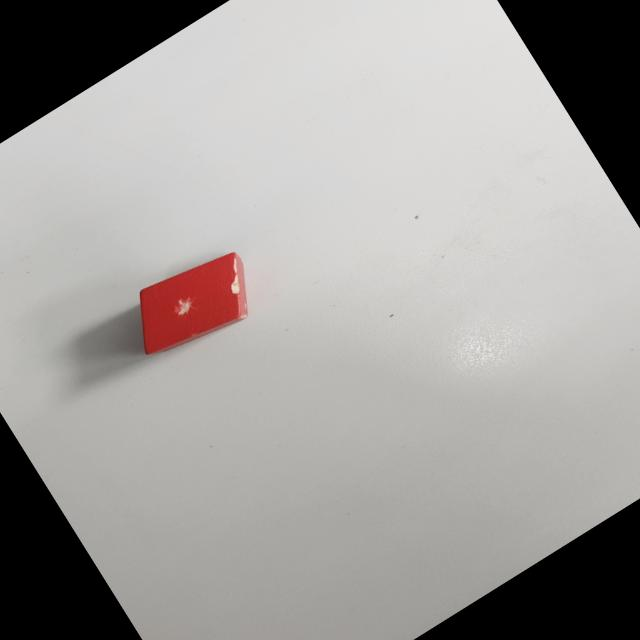broken: (116, 234, 270, 371)
